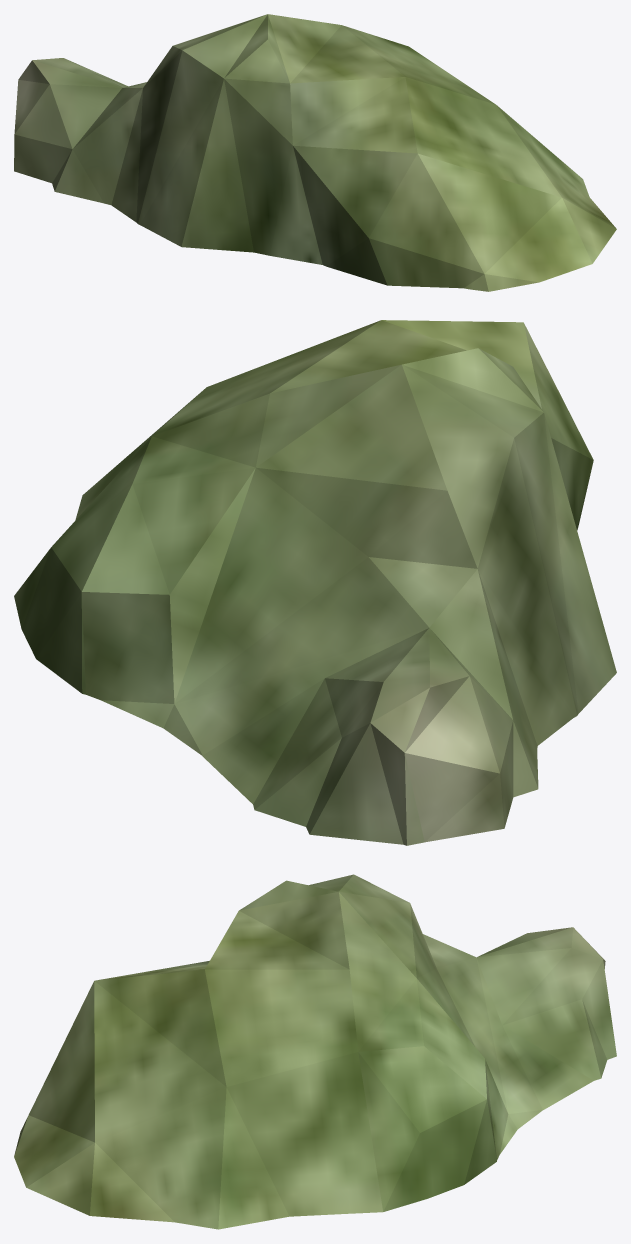
The picture shows the model from 3 angles, top to bottom: view 1: azimuth 30°, elevation 25°; view 2: azimuth 150°, elevation 25°; view 3: azimuth 270°, elevation 25°; orthographic projection. The views are drawn at different scales.
Size of the model in its own units: 0.6316 by 0.27 by 0.7316.
1 material, 1 textured.
